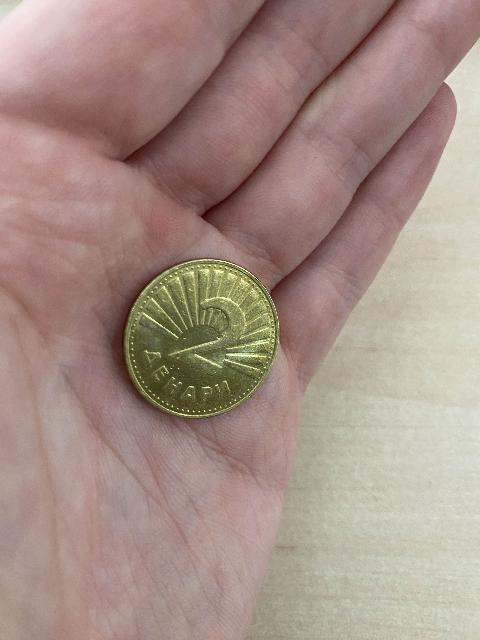2_coin: (125, 260, 278, 417)
